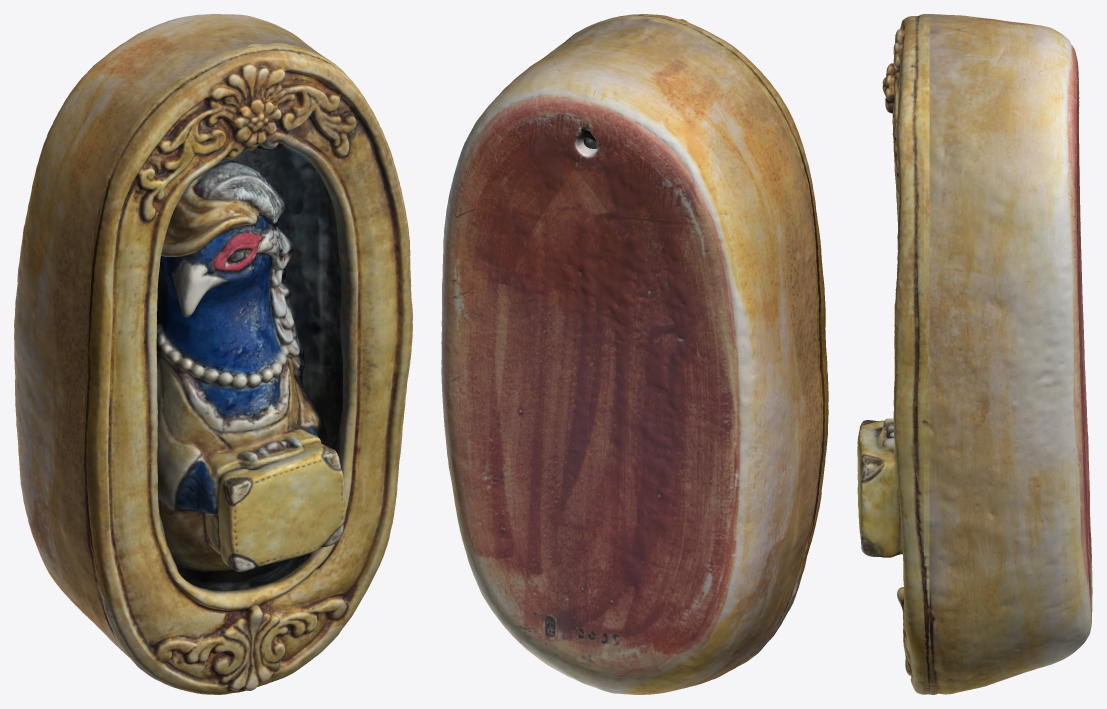
Rendered from bluebird_closed_v2.glb.
The picture shows the model from 3 angles, left to right: view 1: azimuth 30°, elevation 25°; view 2: azimuth 150°, elevation 25°; view 3: azimuth 270°, elevation 25°; orthographic projection.
Parts seen in each view (by area): view 1: front, back, seam; view 2: back, front, seam; view 3: back, front, seam.
Part boxes in pixels (x1,y1,x2,y2): front: [85, 45, 412, 694]; back: [14, 14, 323, 686]; seam: [83, 43, 352, 674]; back: [441, 18, 821, 694]; front: [575, 14, 828, 602]; seam: [566, 16, 824, 639]; back: [929, 14, 1092, 694]; front: [857, 14, 923, 694]; seam: [924, 14, 929, 694].
Bounding box in the file's own units: 0.6969 × 1.3 × 0.4275.
3 materials, 3 textured.
